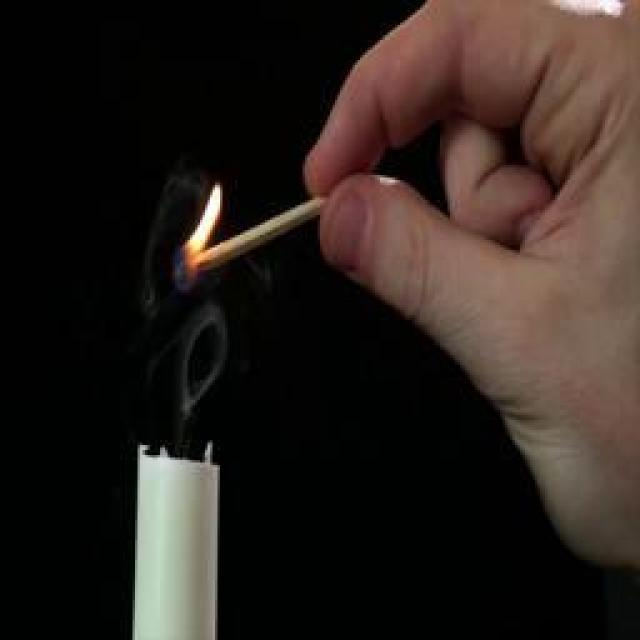Fire: (182, 182, 222, 256)
